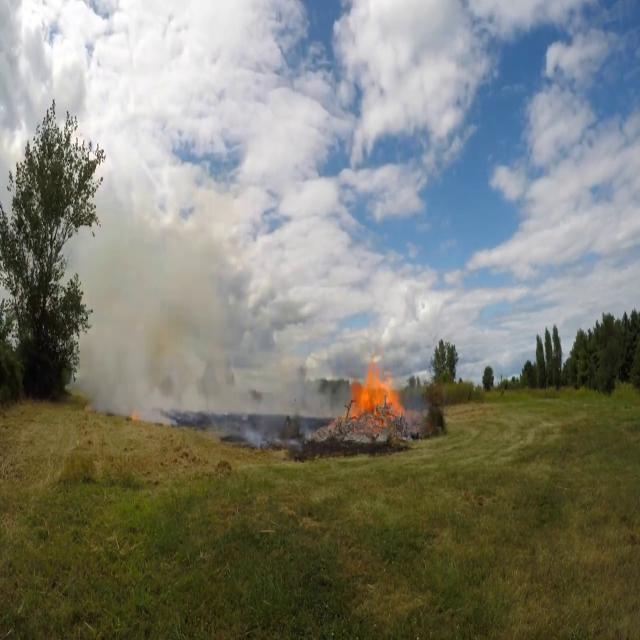Fire: (340, 352, 407, 428)
Smoke: (74, 157, 322, 436)
